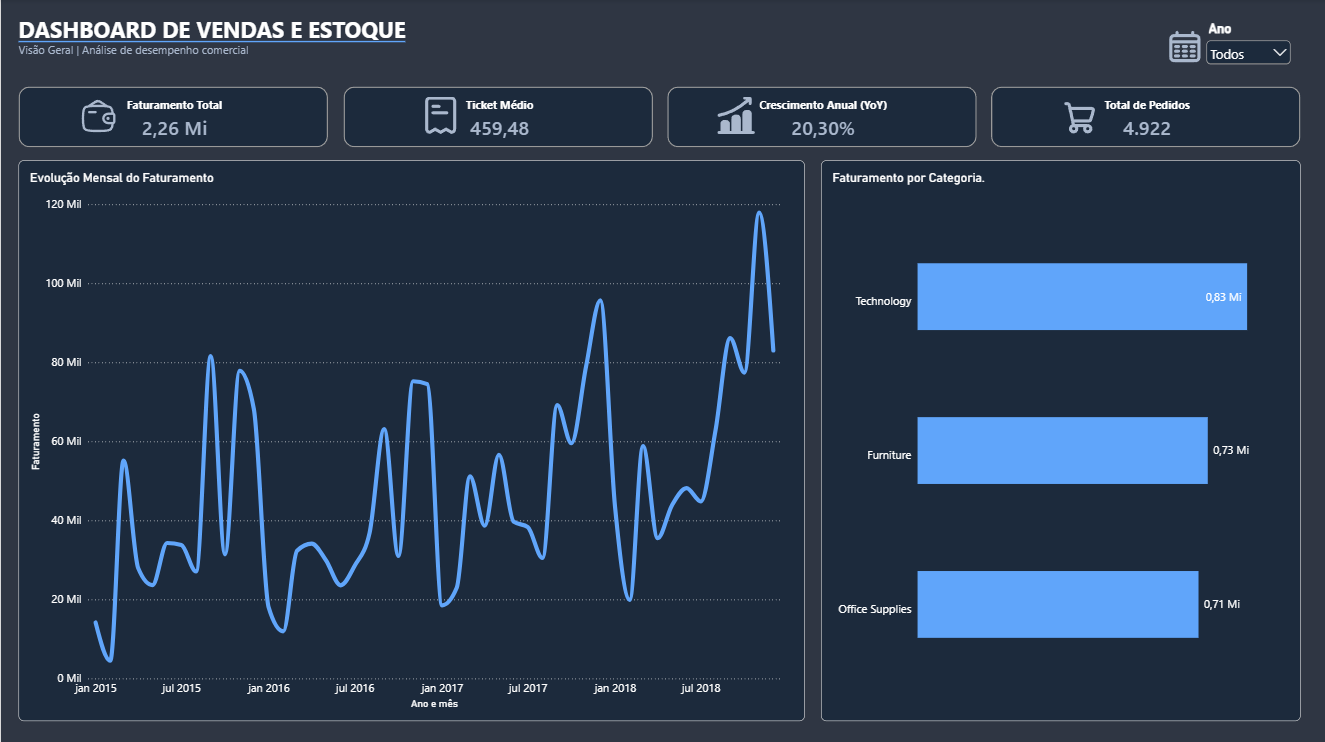

The dashboard page shown, as its layout file describes it:
{"tool":"powerbi","page":{"name":"Visão Geral Vendas","canvas":[1920,1080],"ordinal":0},"visuals":[{"type":"cardVisual","fields":{"Data":["Fato_Vendas.Ticket Médio"]},"box":[495.3,126,448,88],"z":0},{"type":"cardVisual","fields":{"Data":["Fato_Vendas.Total de Pedidos Formatado"]},"box":[1434,126,448,88],"z":1000},{"type":"lineChart","title":"Evolução Mensal do Faturamento","fields":{"Category":["Dim_Calendario.Ano_Mes"],"Y":["Fato_Vendas.Faturamento Total"]},"box":[26,234,1138,812],"z":2000},{"type":"clusteredBarChart","title":"Faturamento por Categoria.","fields":{"Category":["Dim_Produtos.Categoria"],"Y":["Fato_Vendas.Faturamento Total"]},"box":[1188,234,694,812],"z":3000},{"type":"slicer","fields":{"Values":["Dim_Calendario.Ano"]},"box":[1730,22,151.7,78.3],"z":4000},{"type":"cardVisual","title":"Crescimento vs. Ano Anterior.","fields":{"Data":["Fato_Vendas.Crescimento YoY Cartão %"]},"box":[964.7,126,448,88],"z":5000},{"type":"cardVisual","fields":{"Data":["Fato_Vendas.Faturamento Total"]},"box":[26,126,448,88],"z":6000},{"type":"textbox","box":[26,22,610,58],"z":7000},{"type":"textbox","box":[26,62,424,46],"z":8000},{"type":"shape","box":[26,42,560,40],"z":9000},{"type":"image","box":[102,142,80,54],"z":10000},{"type":"image","box":[596,142,80,54],"z":11000},{"type":"image","box":[1024,142,80,54],"z":12000},{"type":"image","box":[1522,144,80,54],"z":13000},{"type":"image","box":[1674,42,80,54],"z":14000}]}

Visuals, with their boxes in screenshot pixels (x1, y1, x2, y2), scaled from the page's 1920x1080 canvas onto the 1325x742 screenshot:
cardVisual - Fato_Vendas.Ticket Médio: Rect(342, 87, 651, 147)
cardVisual - Fato_Vendas.Total de Pedidos Formatado: Rect(990, 87, 1299, 147)
"Evolução Mensal do Faturamento" lineChart: Rect(18, 161, 803, 719)
"Faturamento por Categoria." clusteredBarChart: Rect(820, 161, 1299, 719)
slicer - Dim_Calendario.Ano: Rect(1194, 15, 1299, 69)
"Crescimento vs. Ano Anterior." cardVisual: Rect(666, 87, 975, 147)
cardVisual - Fato_Vendas.Faturamento Total: Rect(18, 87, 327, 147)
textbox: Rect(18, 15, 439, 55)
textbox: Rect(18, 43, 311, 74)
shape: Rect(18, 29, 404, 56)
image: Rect(70, 98, 126, 135)
image: Rect(411, 98, 467, 135)
image: Rect(707, 98, 762, 135)
image: Rect(1050, 99, 1106, 136)
image: Rect(1155, 29, 1210, 66)
